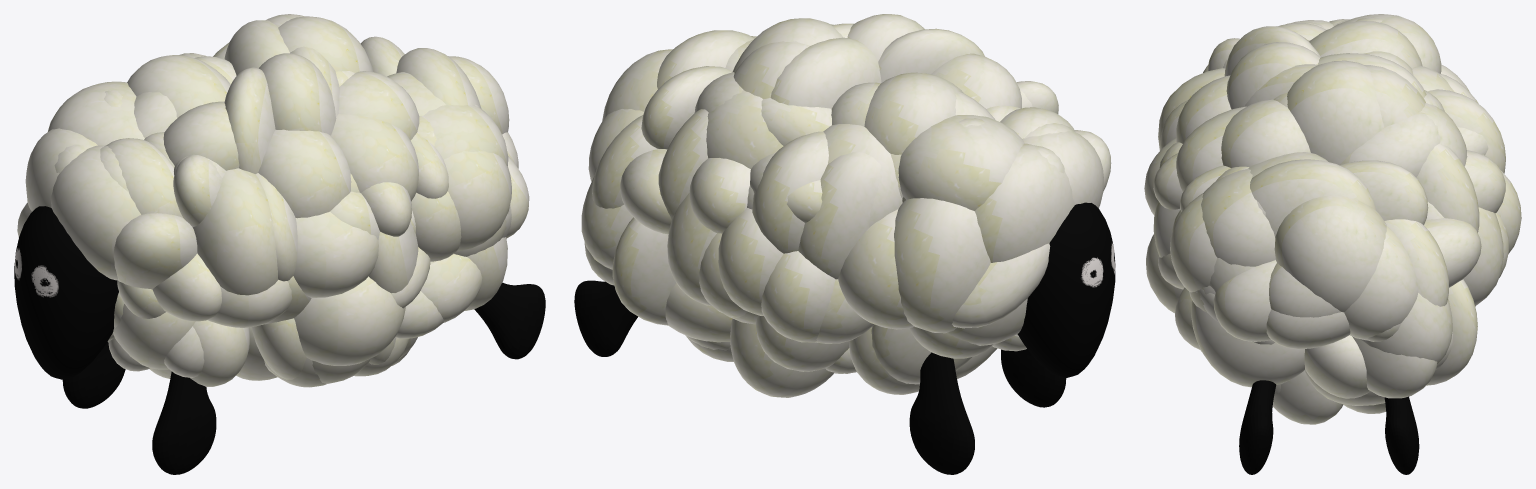
The model's file is Sheep.fbx.
3 renders of one model, left to right at view 1: azimuth 30°, elevation 25°; view 2: azimuth 150°, elevation 25°; view 3: azimuth 270°, elevation 25°, orthographic. The views are drawn at different scales.
Visible parts, largest first — view 1: Cube.001; view 2: Cube.001; view 3: Cube.001.
Part boxes in pixels (x1,y1,x2,y2): Cube.001: (14, 14, 545, 474); Cube.001: (574, 14, 1115, 474); Cube.001: (1144, 14, 1521, 474).
Bounding box in the file's own units: 406 × 282 × 295.
3 materials, 2 textured.
